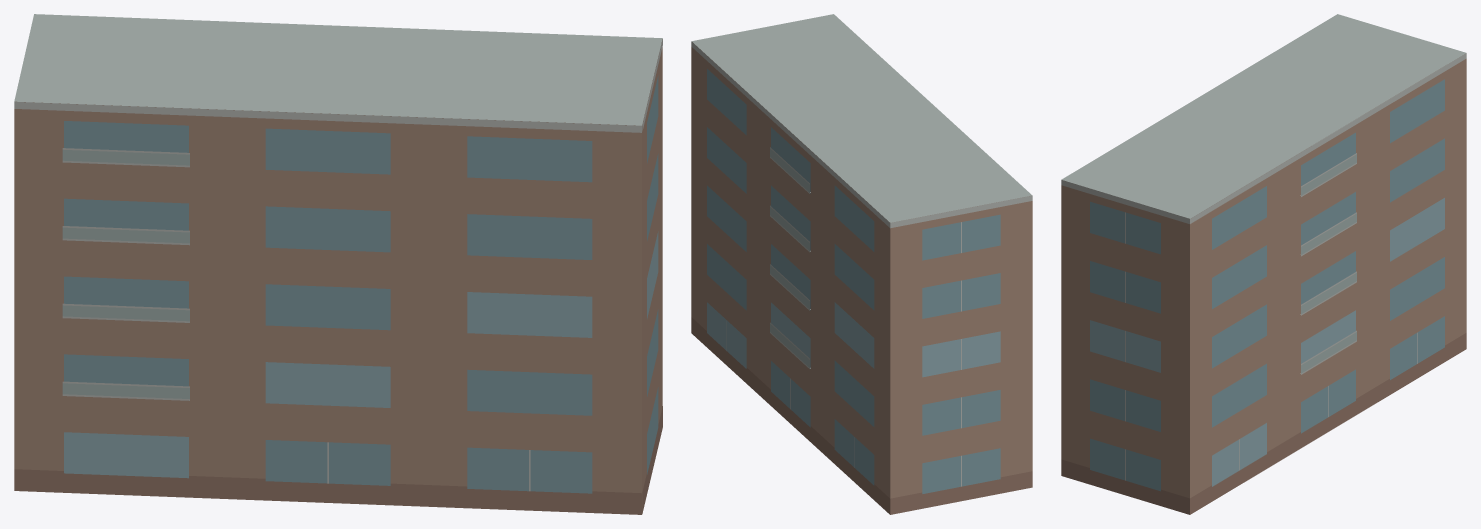
File: survey-upis-32955521.glb
3 renders of one model, left to right at view 1: azimuth 30°, elevation 25°; view 2: azimuth 150°, elevation 25°; view 3: azimuth 270°, elevation 25°, orthographic. The views are drawn at different scales.
Parts seen in each view (by area): view 1: survey-upis-32955521.tmp; view 2: survey-upis-32955521.tmp; view 3: survey-upis-32955521.tmp.
Part boxes in pixels (x1=…): survey-upis-32955521.tmp: x1=14, y1=14, x2=662, y2=514; survey-upis-32955521.tmp: x1=691, y1=14, x2=1032, y2=514; survey-upis-32955521.tmp: x1=1061, y1=14, x2=1466, y2=514.
Bounding box in the file's own units: 19.58 × 13.2 × 16.39.
